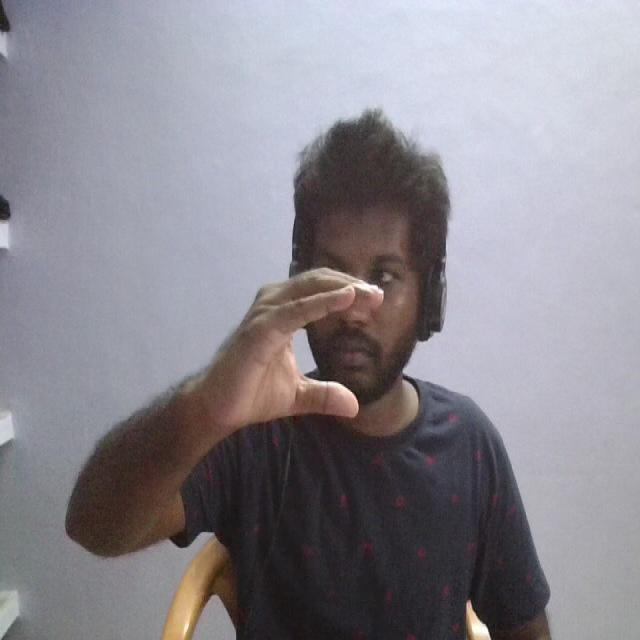No: (205, 245, 395, 478)
